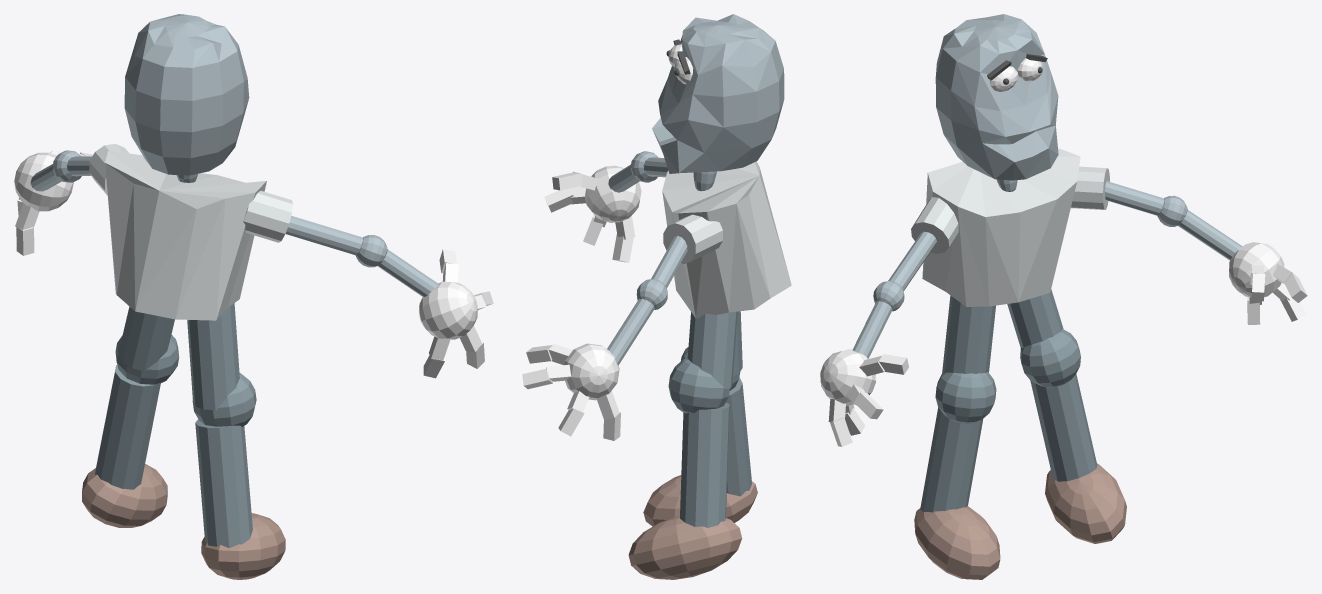
The model's file is chillDude.glb.
The picture shows the model from 3 angles, left to right: view 1: azimuth 30°, elevation 25°; view 2: azimuth 150°, elevation 25°; view 3: azimuth 270°, elevation 25°; orthographic projection. The views are drawn at different scales.
Visible parts, largest first — view 1: group1267516246, group1756951673, group665429668; view 2: group1267516246, group665429668, group1756951673; view 3: group1267516246, group1756951673, group665429668.
Boxes of the visible parts, box(x1,y1,x2,y2) form: group1267516246: box(30, 14, 438, 579); group1756951673: box(419, 249, 493, 378); group665429668: box(14, 150, 93, 255); group1267516246: box(607, 14, 791, 579); group665429668: box(522, 343, 620, 440); group1756951673: box(544, 165, 641, 262); group1267516246: box(852, 14, 1242, 579); group1756951673: box(820, 349, 908, 446); group665429668: box(1229, 242, 1307, 324).
Size of the model in its own units: 0.886 by 1.52 by 1.28.
